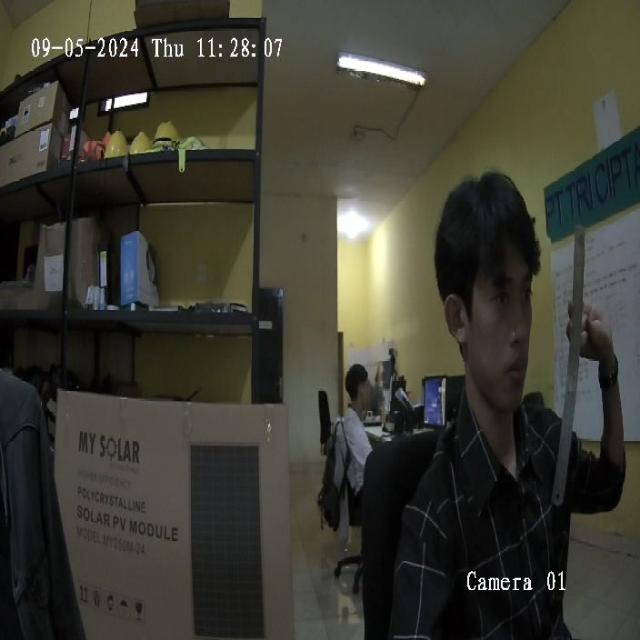Ruler: (552, 224, 585, 506)
